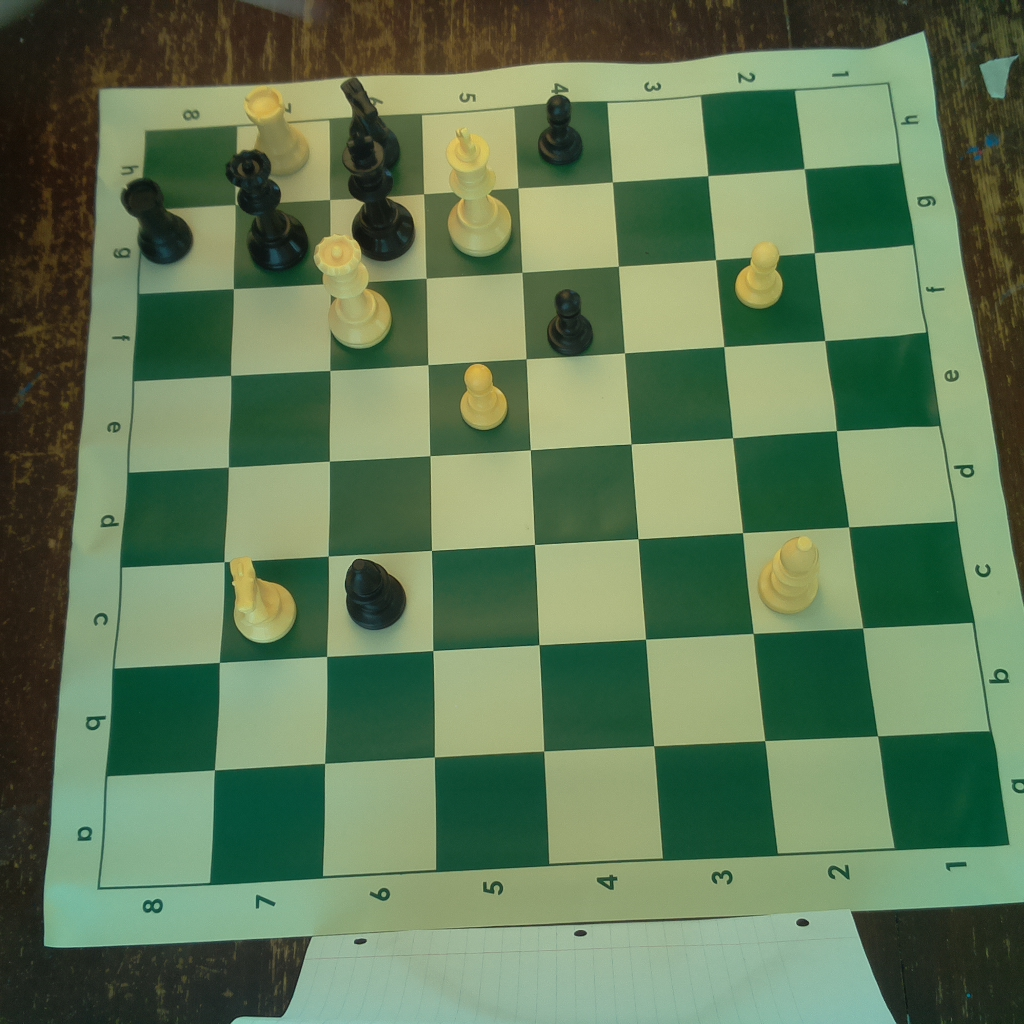black_bishop: (340, 552, 408, 630)
black_king: (334, 128, 421, 262)
black_knight: (338, 75, 405, 173)
black_pawn: (538, 279, 598, 356), (532, 95, 590, 169)
black_queen: (228, 148, 310, 274)
black_rook: (116, 177, 197, 269)
file_a: (96, 730, 1011, 890)
file_b: (106, 621, 993, 775)
file_c: (115, 521, 973, 669)
file_d: (119, 427, 958, 569)
file_e: (127, 334, 940, 473)
file_f: (134, 244, 931, 382)
file_g: (140, 162, 914, 292)
file_h: (142, 86, 902, 209)
outline: (97, 86, 1012, 888)
rank_1: (796, 82, 1008, 852)
rank_2: (702, 88, 896, 853)
rank_3: (606, 97, 779, 861)
rank_4: (518, 101, 667, 865)
rank_5: (423, 105, 550, 871)
rank_6: (320, 112, 437, 875)
rank_7: (211, 119, 329, 887)
rank_8: (98, 126, 236, 886)
white_bishop: (758, 527, 825, 615)
white_king: (438, 123, 519, 258)
white_knight: (221, 552, 299, 644)
white_pawn: (457, 361, 512, 432), (736, 236, 789, 309)
white_queen: (311, 227, 396, 349)
white_rook: (242, 82, 314, 175)
